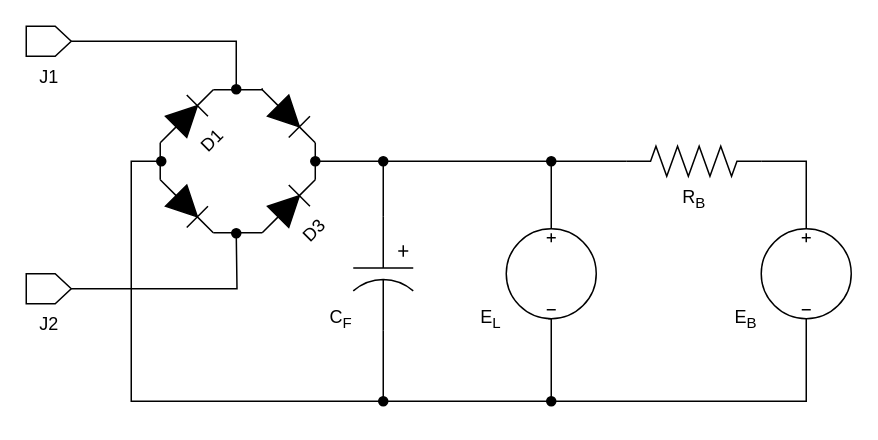
Image size: 878x440. Some labels were removed from this diagram. Each missing label, with the box of its shape:
D2: (250, 77, 326, 154)
D4: (148, 167, 224, 244)
